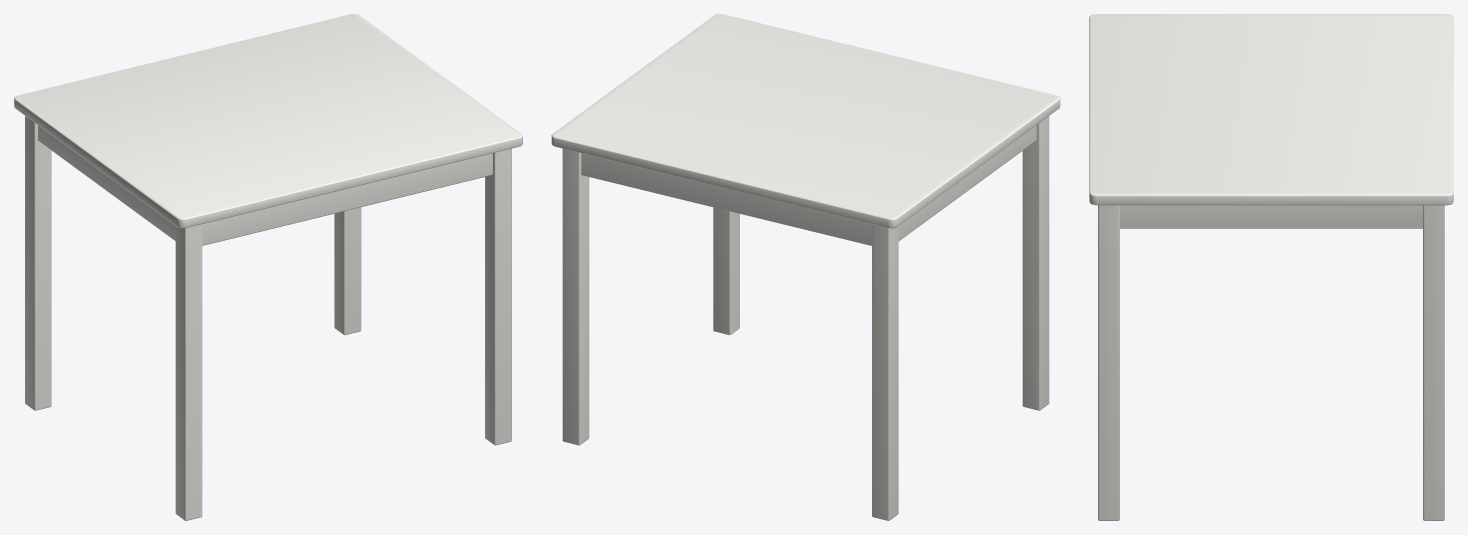
Rendered from kritter_stolik_dzieciecy_40153859.glb.
3 views of the same model, side by side, from view 1: azimuth 30°, elevation 25°; view 2: azimuth 150°, elevation 25°; view 3: azimuth 270°, elevation 25° (orthographic). The views are drawn at different scales.
Visible parts, largest first — view 1: kritter_stolik_dzieciecy_40153859; view 2: kritter_stolik_dzieciecy_40153859; view 3: kritter_stolik_dzieciecy_40153859.
Boxes of the visible parts, x1,y1,x2,y2 form: kritter_stolik_dzieciecy_40153859: [14, 14, 522, 520]; kritter_stolik_dzieciecy_40153859: [551, 14, 1060, 520]; kritter_stolik_dzieciecy_40153859: [1089, 14, 1453, 520].
Bounding box in the file's own units: 0.59 × 0.501 × 0.5.
Materials: 1 (1 with a texture image).
